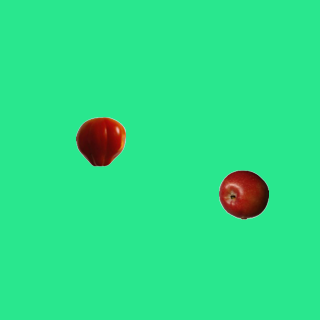Apple Braeburn: (218, 169, 268, 219)
Tomato 1: (75, 116, 125, 166)
